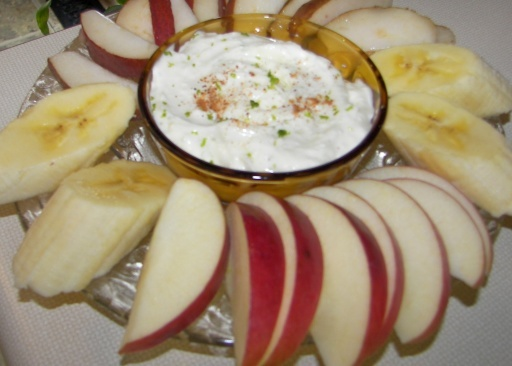background: (0, 0, 410, 209)
